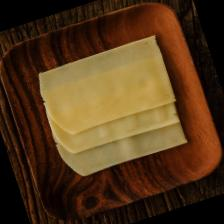cheese: (33, 32, 178, 140), (41, 54, 182, 160), (51, 90, 188, 182)
